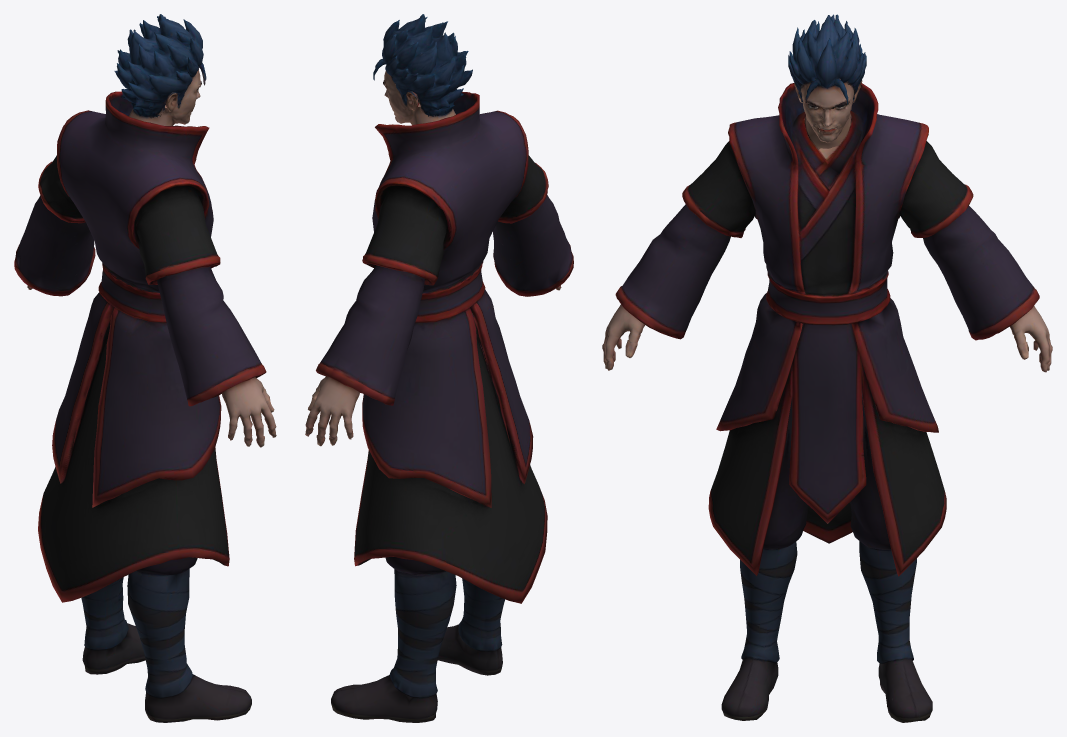
The model's file is ef0dab91-8901-436e-b9aa-99291b169ee8_model.glb.
The picture shows the model from 3 angles, left to right: view 1: azimuth 30°, elevation 25°; view 2: azimuth 150°, elevation 25°; view 3: azimuth 270°, elevation 25°; orthographic projection.
Visible parts, largest first — view 1: tripo_node_ef0dab91-8901-436e-b9aa-99291b169ee8; view 2: tripo_node_ef0dab91-8901-436e-b9aa-99291b169ee8; view 3: tripo_node_ef0dab91-8901-436e-b9aa-99291b169ee8.
Boxes of the visible parts, x1=… form: tripo_node_ef0dab91-8901-436e-b9aa-99291b169ee8: x1=14, y1=14, x2=276, y2=722; tripo_node_ef0dab91-8901-436e-b9aa-99291b169ee8: x1=305, y1=14, x2=573, y2=722; tripo_node_ef0dab91-8901-436e-b9aa-99291b169ee8: x1=602, y1=14, x2=1052, y2=722.
Size of the model in its own units: 0.421 by 1.8 by 1.07.
Materials: 1 (1 with a texture image).
